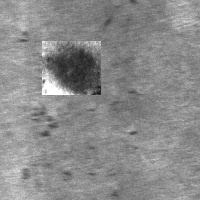patches: (42, 41, 101, 95)
rolled-in_scale: (20, 28, 68, 182), (97, 85, 147, 140)
